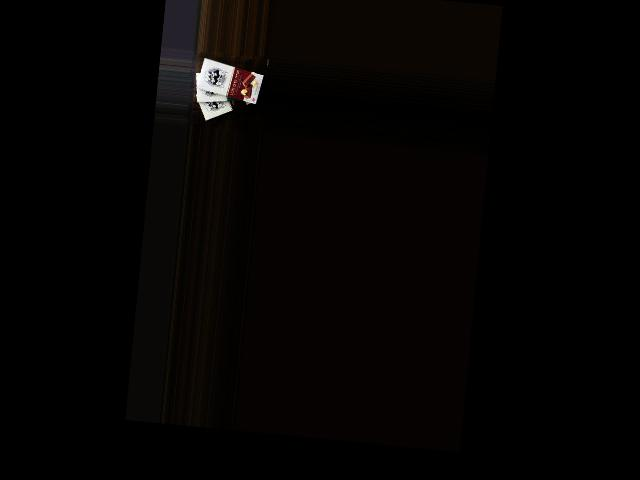chocolate: (191, 78, 262, 126)
